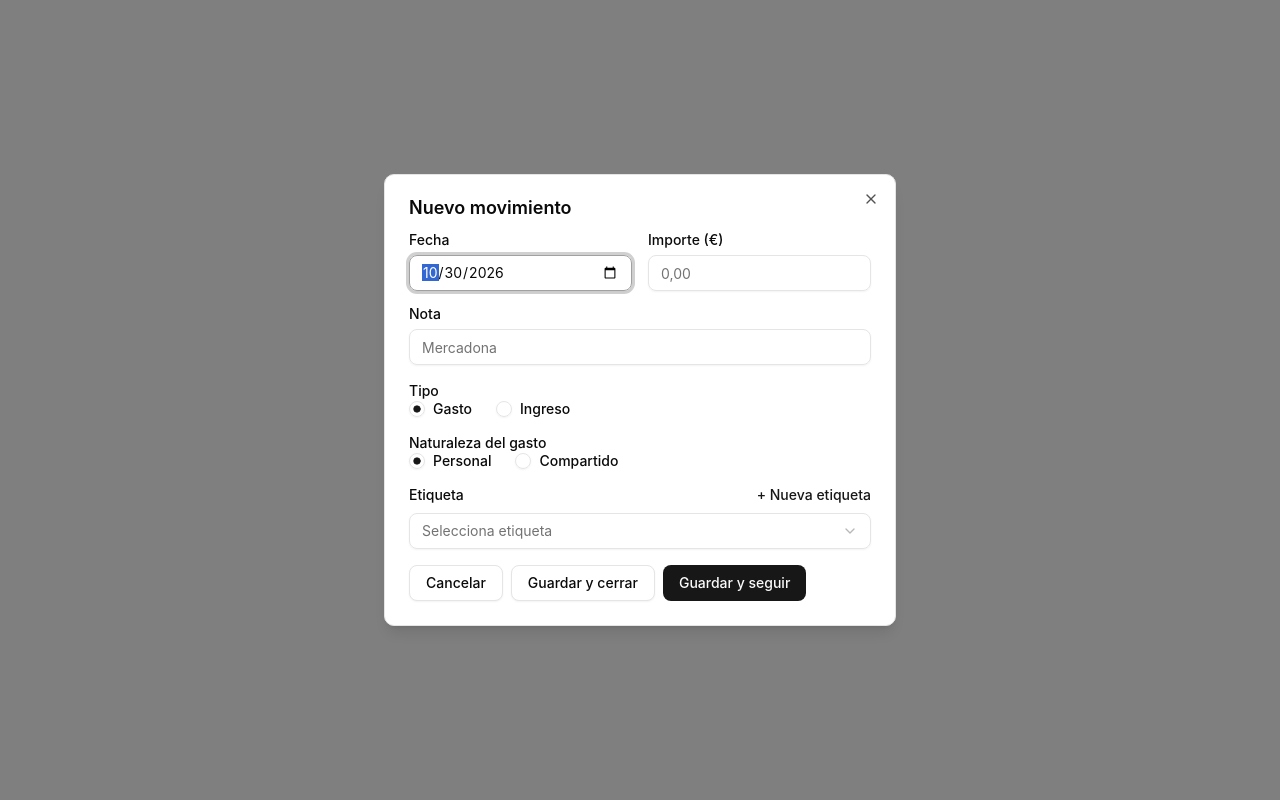
it: CreateMovementDialog (flujo de alta) › el Select de etiqueta ofrece una opción por tag activa y «Sin etiqueta» solo con Ingreso
Click the dropdown labelled "etiqueta" at (487,530), box [409, 513, 871, 549]
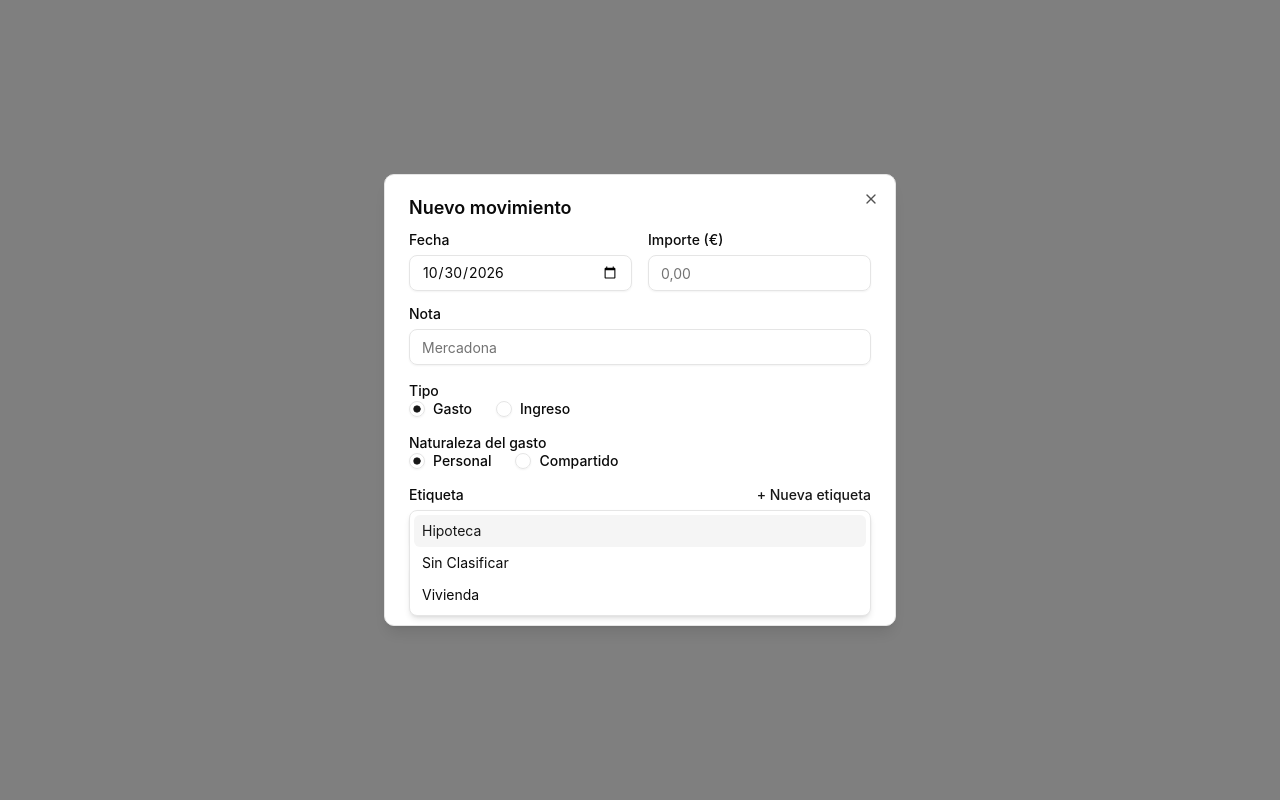
Expected: the option "Vivienda" is shown, [422, 586, 479, 603]
Expected: the option "Hipoteca" is shown, [414, 515, 866, 547]
Expected: the option "Sin Clasificar" is shown, [422, 554, 509, 571]
Press Escape
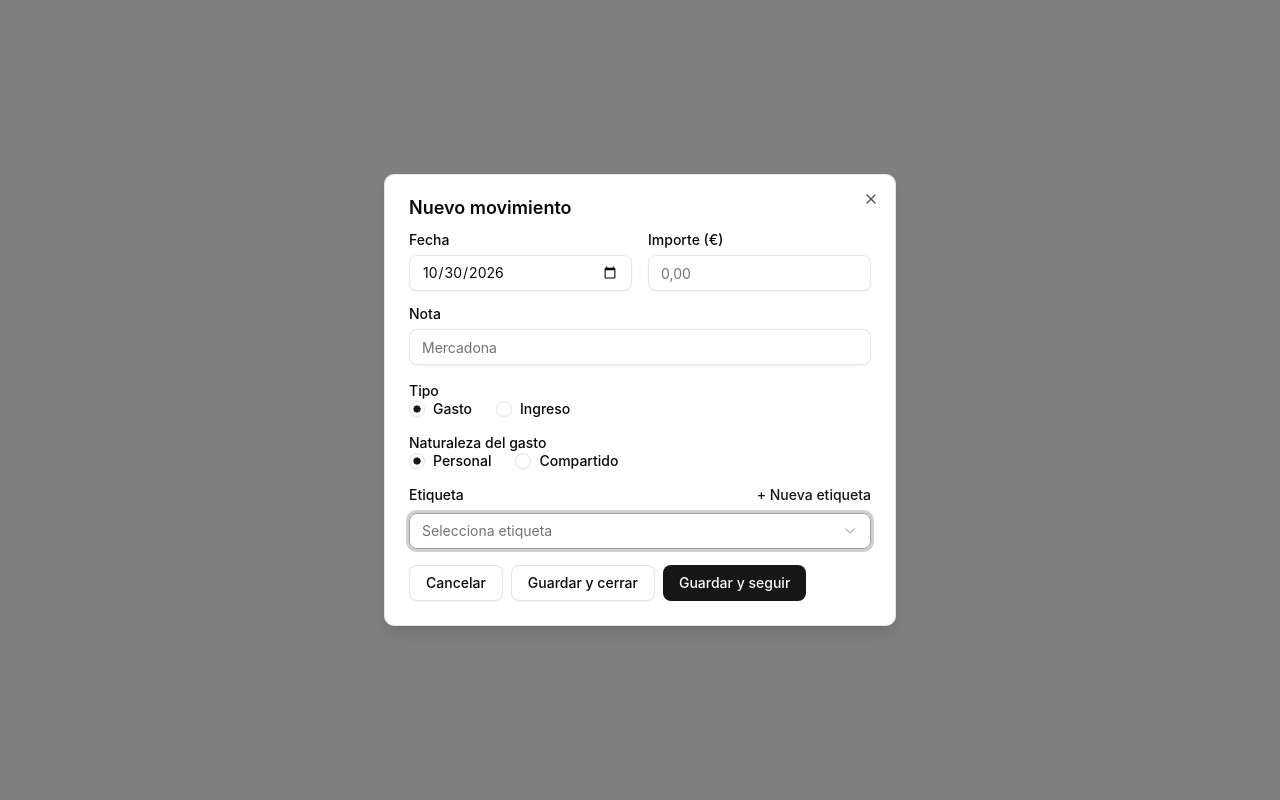
Click the radio button named "Ingreso" next to "Ingreso" at (504,409), box [496, 401, 512, 417]
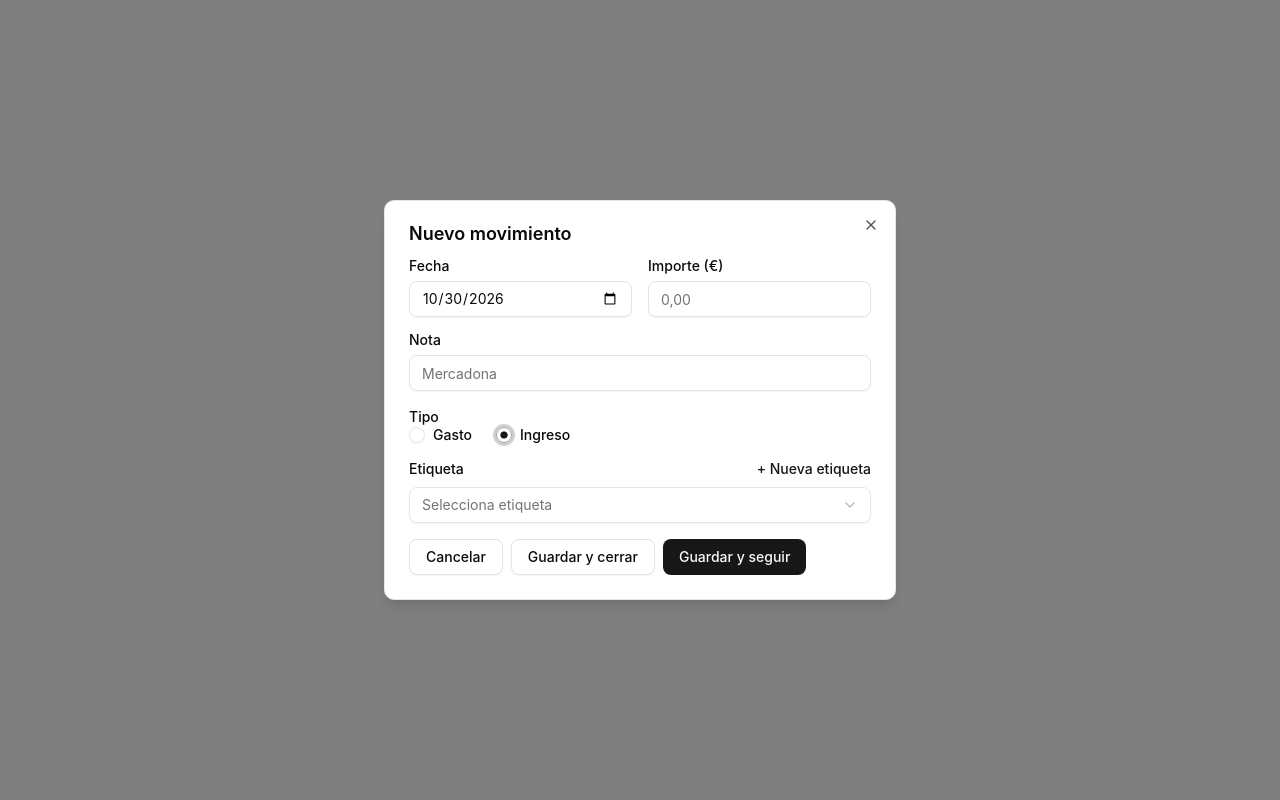
Click the dropdown labelled "etiqueta" at (487,504), box [409, 487, 871, 523]
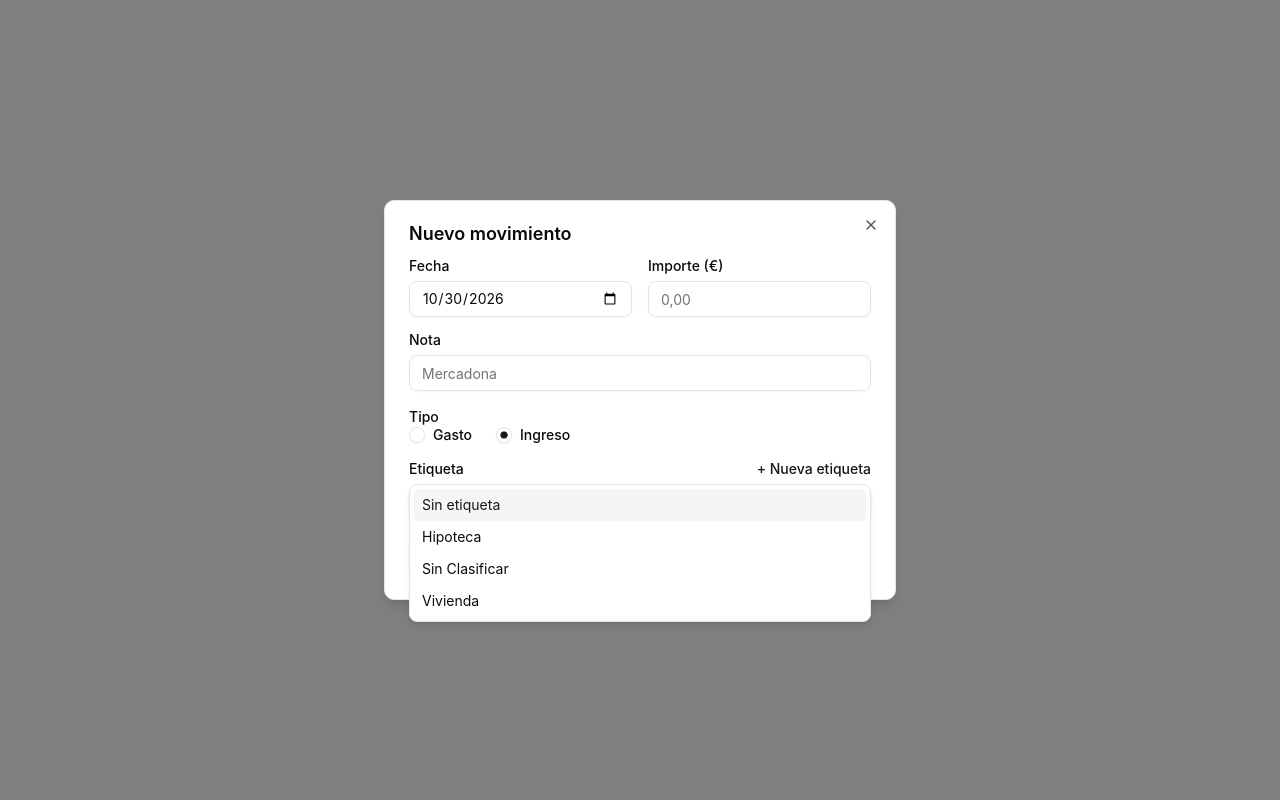
Expected: the option "Sin etiqueta" is shown, [414, 489, 866, 521]
